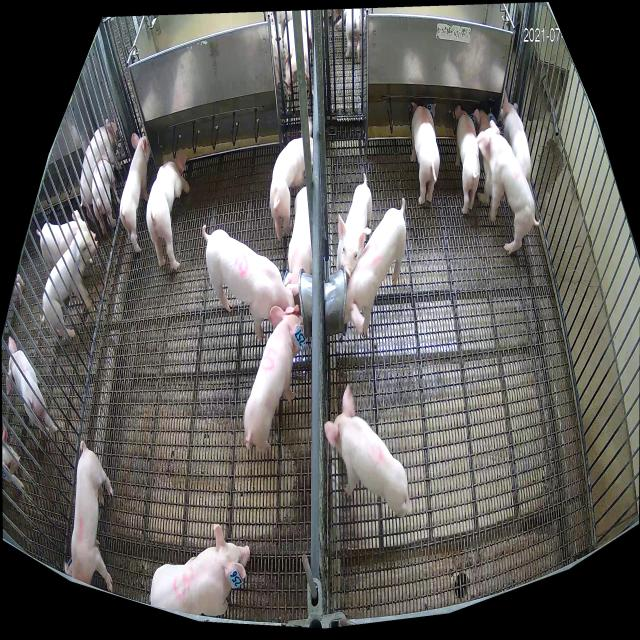pig: (324, 383, 411, 518), (202, 224, 299, 341), (150, 524, 250, 617), (244, 307, 306, 454), (344, 197, 406, 336), (476, 120, 540, 254), (65, 441, 113, 593), (270, 116, 313, 239), (146, 150, 190, 270), (337, 172, 372, 280), (120, 133, 150, 252), (411, 101, 440, 204), (501, 95, 531, 191), (454, 105, 480, 215), (285, 187, 312, 287), (474, 109, 497, 132)
